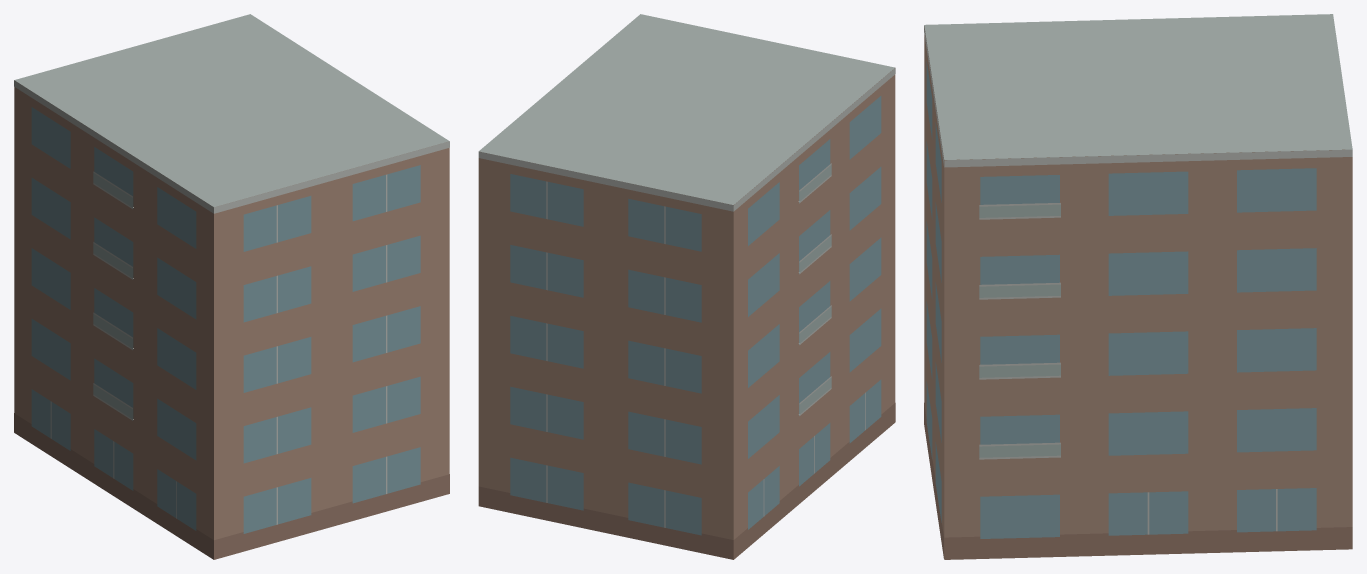
Rendered from survey-upis-32884994.glb.
3 renders of one model, left to right at view 1: azimuth 30°, elevation 25°; view 2: azimuth 150°, elevation 25°; view 3: azimuth 270°, elevation 25°, orthographic. The views are drawn at different scales.
Visible parts, largest first — view 1: survey-upis-32884994.tmp; view 2: survey-upis-32884994.tmp; view 3: survey-upis-32884994.tmp.
Part boxes in pixels (box(x1,y1,x2,y2)): survey-upis-32884994.tmp: box(14, 14, 449, 559); survey-upis-32884994.tmp: box(478, 14, 895, 559); survey-upis-32884994.tmp: box(924, 14, 1352, 559).
Bounding box in the file's own units: 10.36 × 13.2 × 12.83.
